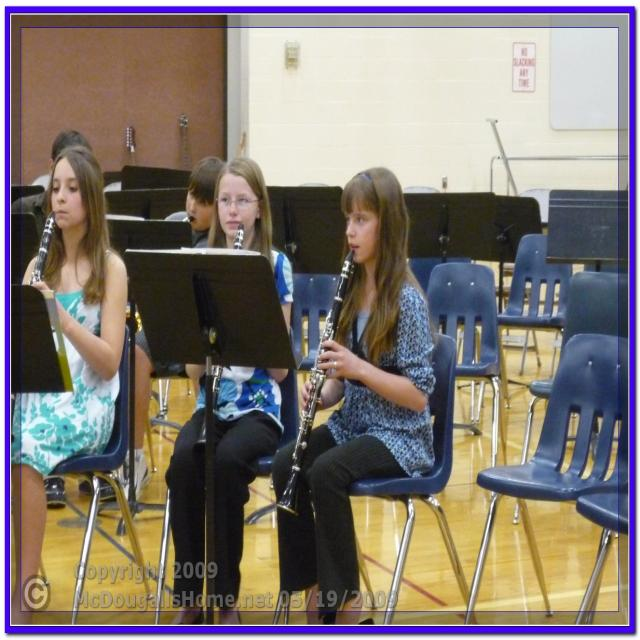clarinet: (275, 249, 361, 519), (191, 223, 249, 464), (28, 213, 62, 284)
